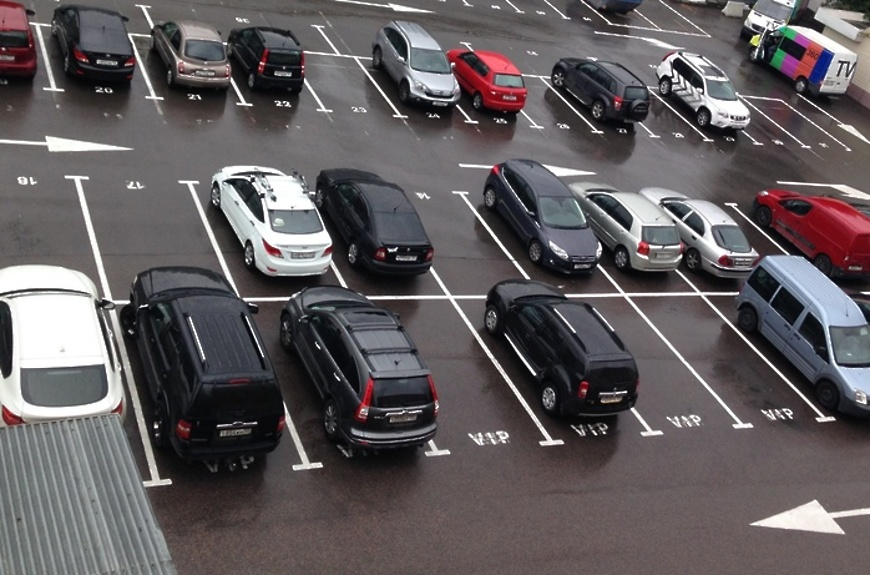Car: (121, 265, 286, 469), (280, 285, 440, 452), (736, 255, 870, 417), (484, 279, 640, 417), (0, 264, 127, 427), (209, 164, 333, 278), (483, 159, 602, 274), (314, 168, 434, 276), (639, 187, 759, 280), (751, 188, 870, 279), (570, 181, 683, 273), (656, 50, 751, 133), (749, 25, 858, 97), (372, 20, 461, 108), (51, 4, 136, 87), (551, 56, 651, 125), (150, 20, 232, 92), (447, 48, 528, 116), (227, 26, 305, 94), (0, 0, 38, 81), (740, 0, 810, 39)
